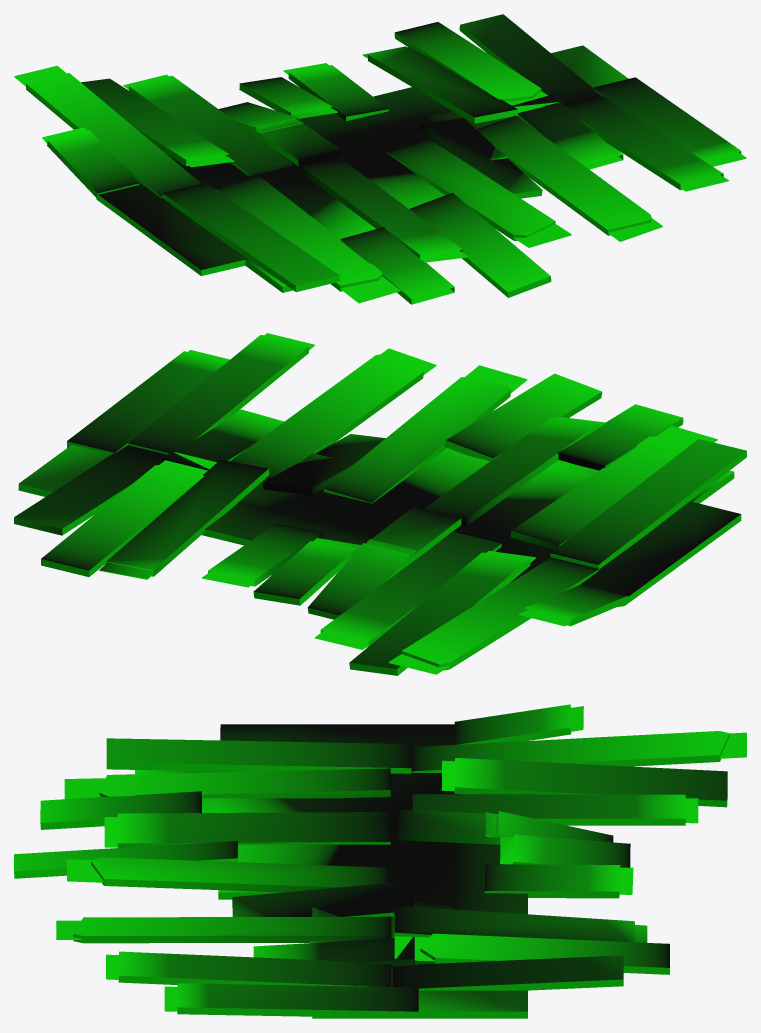
Rendered from DBK_WoodFloor_Prop_Big_D.fbx.
3 renders of one model, top to bottom at view 1: azimuth 30°, elevation 25°; view 2: azimuth 150°, elevation 25°; view 3: azimuth 270°, elevation 25°, orthographic. The views are drawn at different scales.
Parts seen in each view (by area): view 1: DBK_WoodFloor_Prop_Big_D; view 2: DBK_WoodFloor_Prop_Big_D; view 3: DBK_WoodFloor_Prop_Big_D.
Part boxes in pixels (<box>): DBK_WoodFloor_Prop_Big_D: <box>14,14,746,304</box>; DBK_WoodFloor_Prop_Big_D: <box>14,333,746,675</box>; DBK_WoodFloor_Prop_Big_D: <box>14,704,746,1018</box>.
Size of what is drawn, in the model's own units: 180 by 11.5 by 192.
